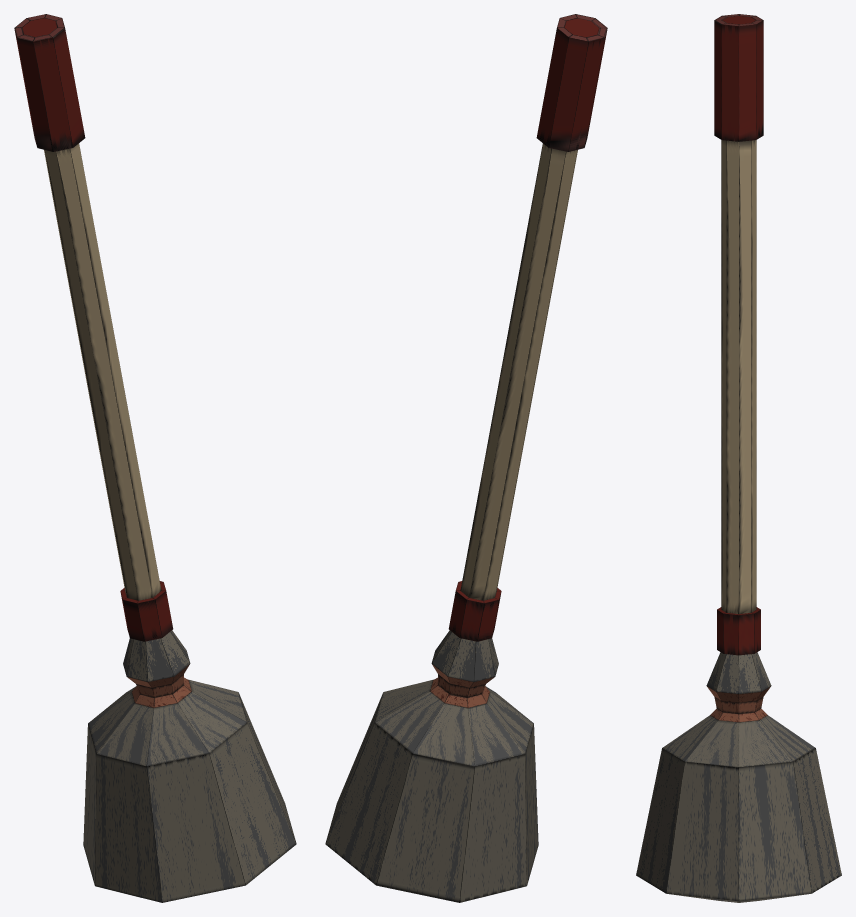
The model's file is JC_Mop.fbx.
3 views of the same model, side by side, from view 1: azimuth 30°, elevation 25°; view 2: azimuth 150°, elevation 25°; view 3: azimuth 270°, elevation 25° (orthographic). The views are drawn at different scales.
Parts seen in each view (by area): view 1: Cylinder.001; view 2: Cylinder.001; view 3: Cylinder.001.
Part boxes in pixels (bbox=[...]): Cylinder.001: bbox=[14, 14, 296, 902]; Cylinder.001: bbox=[325, 14, 607, 902]; Cylinder.001: bbox=[636, 14, 841, 902].
Bounding box in the file's own units: 277 × 872 × 200.
